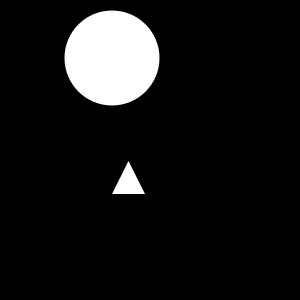rectangle: (65, 11, 160, 106)
triangle: (112, 161, 145, 194)
